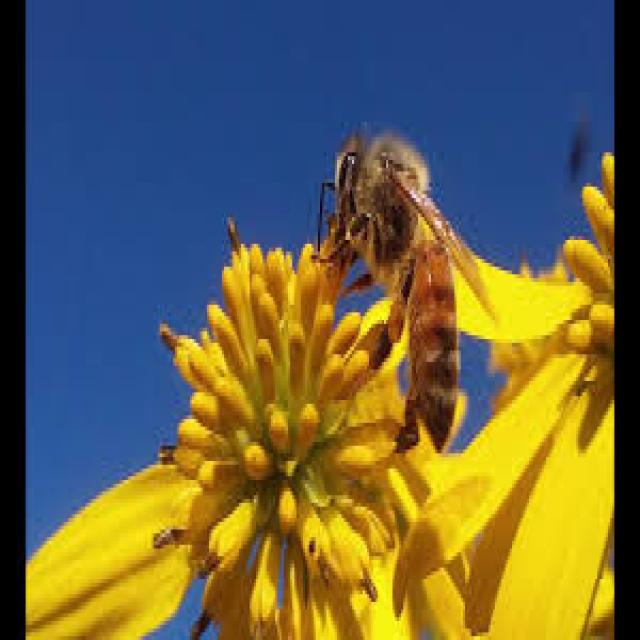Bees: (313, 104, 497, 455)
